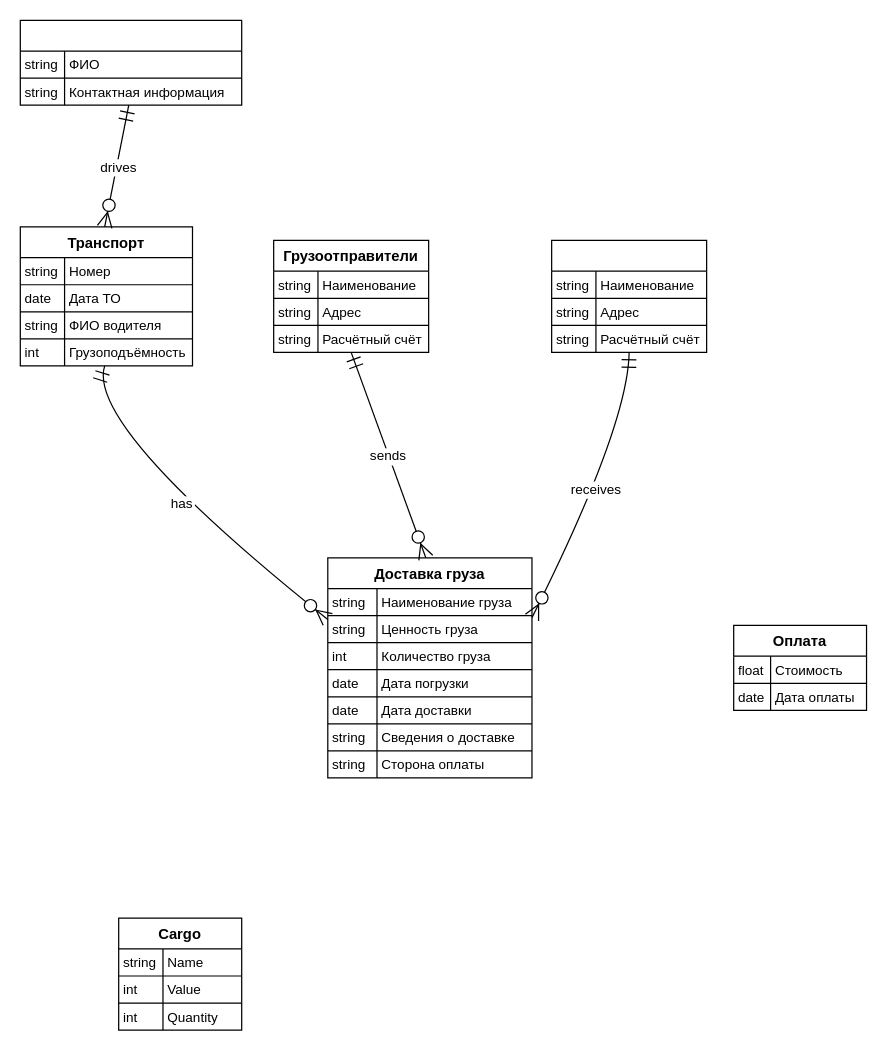
The diagram is 887 pixels wide and 1050 high, and some of its shapes have lost their labels. Each missing label, with the box of its shape:
Водители: (19, 19, 242, 105)
Грузополучатели: (550, 239, 707, 352)
